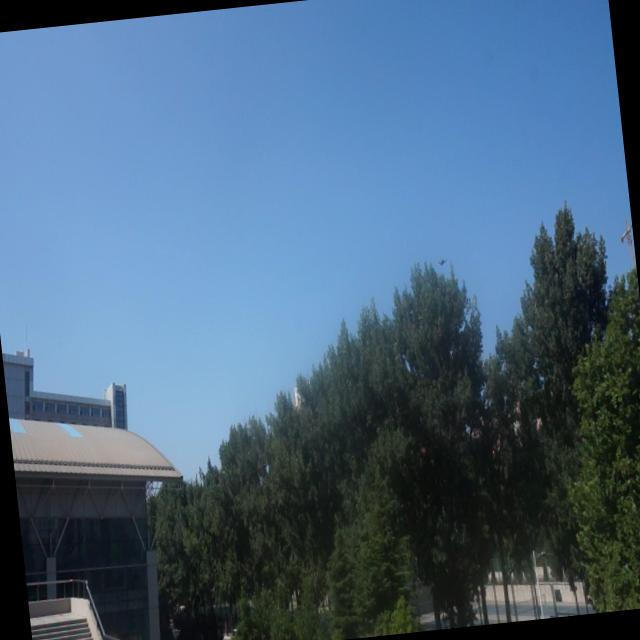drone: (432, 252, 449, 272)
